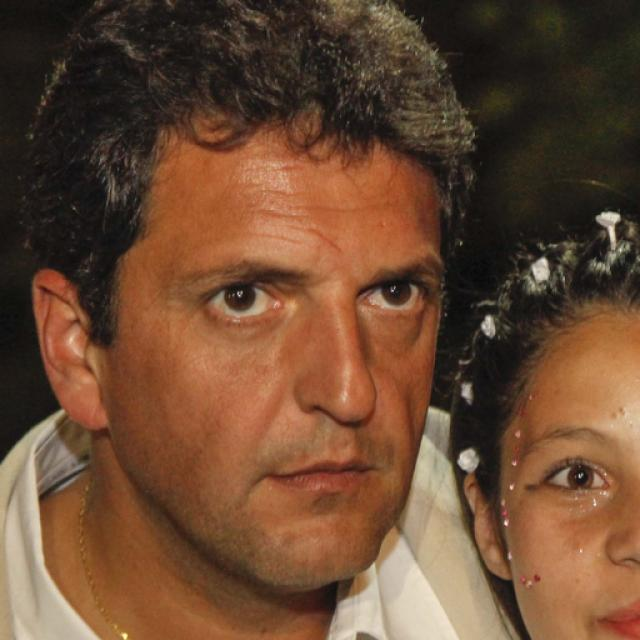Wrinkle: (291, 194, 397, 216), (280, 222, 339, 256), (262, 203, 313, 219), (252, 184, 309, 196)
